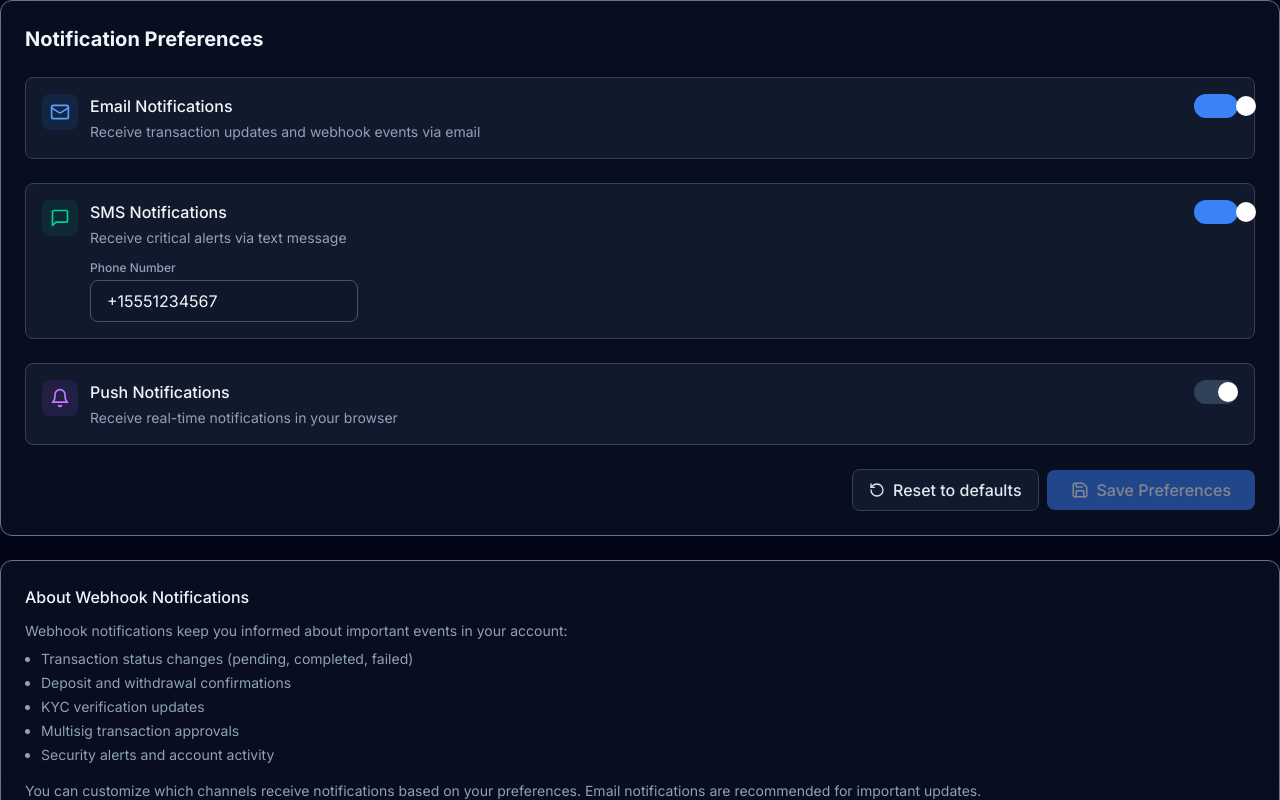
Test: NotificationPreferences saving › PATCHes every channel and shows the success indicator
This screenshot has width=1280, height=800.
Expected: the heading "Notification Preferences" is shown, [25,27,264,51]
Click the switch named "Toggle push notifications". click: (1216, 392)
box: [1194,380,1238,404]
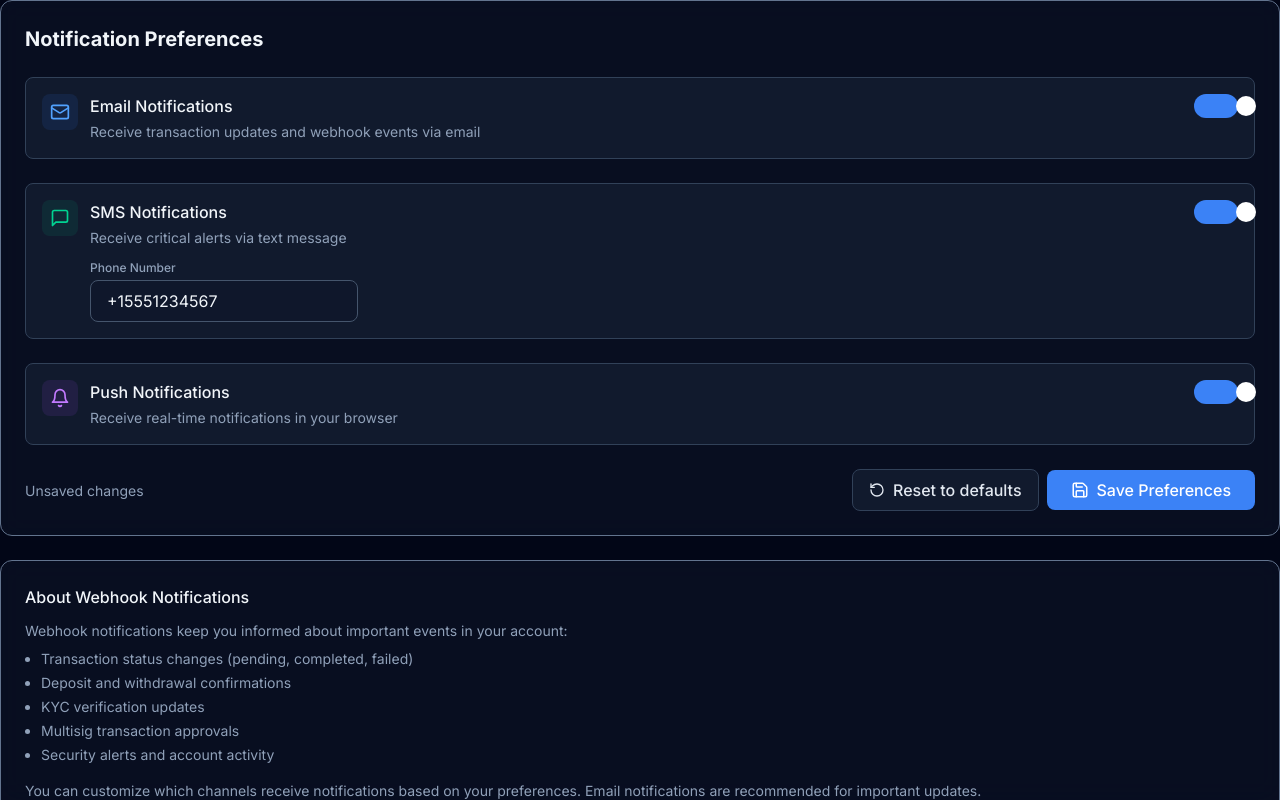
Result: the button "Save Preferences" is enabled
Click the button "Save Preferences". click: (1151, 490)
box: [1046,470,1255,510]
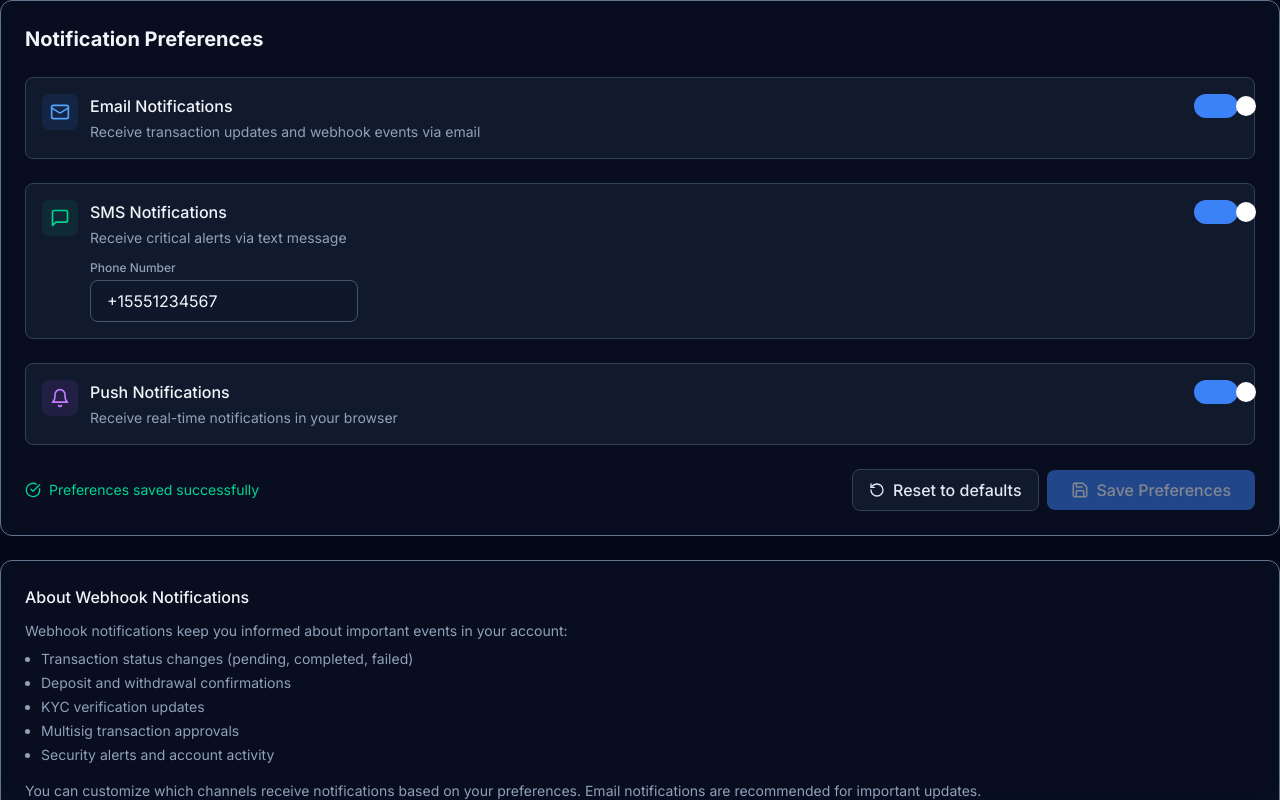
Result: the text "Preferences saved successfully" is shown at [49,480,259,500]
